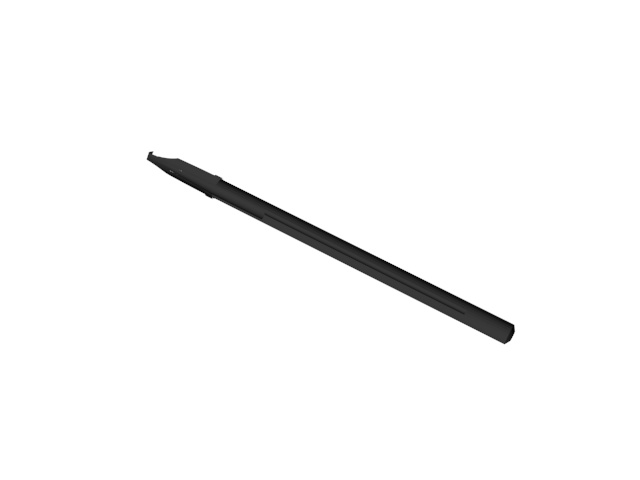pen: (145, 145, 520, 352)
